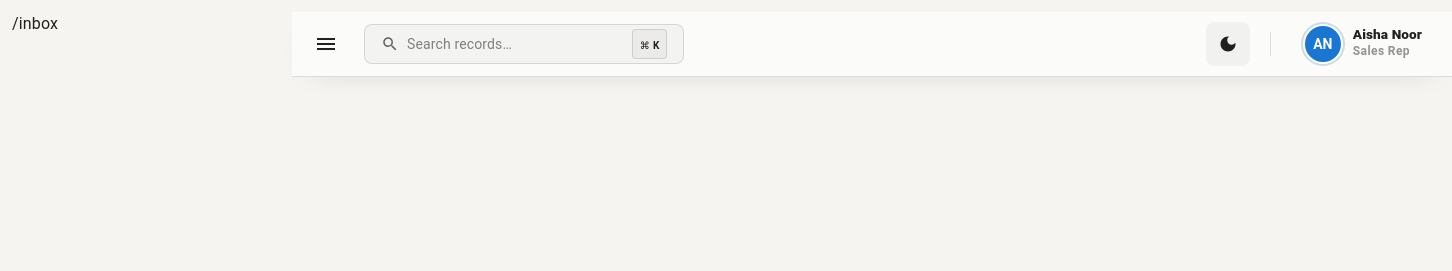
Scenario: Navbar global search › shows and clears only this tenant/user recent opened records on empty focus
Focus the dropdown named "Search customers, suppliers, products, enquiries, quotes, orders and shipments" at (520, 44), box x1=407 y1=29 x2=632 y2=58
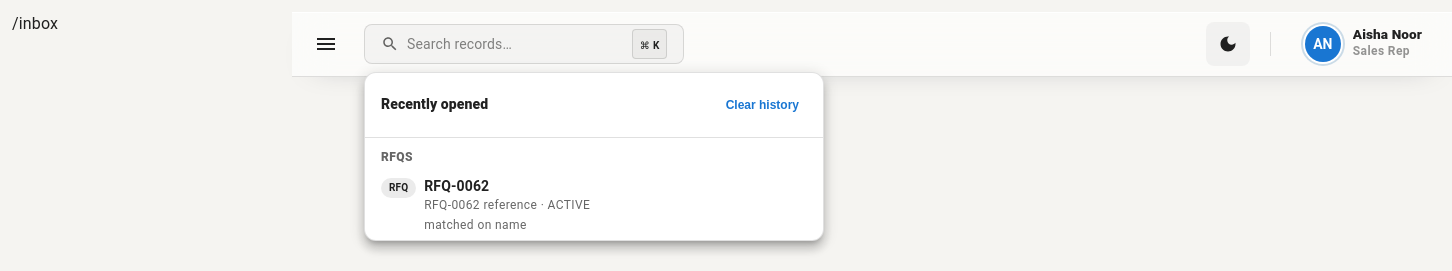
Expected: the text "RFQ-0062" is shown, x1=424 y1=178 x2=489 y2=194
Click the button "Clear history" at (762, 105), box x1=718 y1=83 x2=807 y2=127
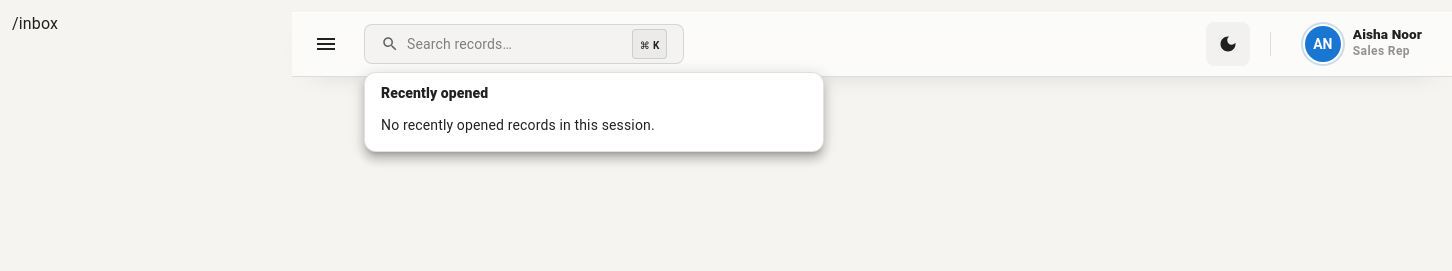
Expected: the option "RFQ-0062" is gone
Expected: the text "No recently opened records in this session." is shown, x1=381 y1=117 x2=655 y2=133
